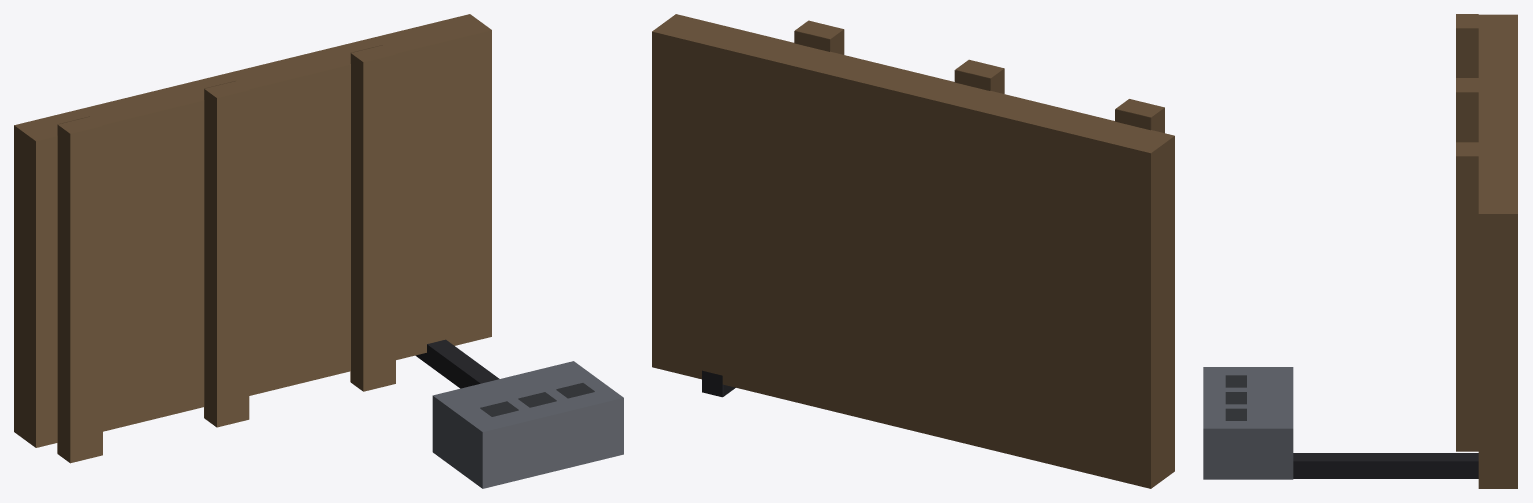
File: bank_ground_makeshift_c0_S.obj
3 renders of one model, left to right at view 1: azimuth 30°, elevation 25°; view 2: azimuth 150°, elevation 25°; view 3: azimuth 270°, elevation 25°, orthographic. The views are drawn at different scales.
Parts seen in each view (by area): view 1: bank_ground_makeshift_c0_S; view 2: bank_ground_makeshift_c0_S; view 3: bank_ground_makeshift_c0_S.
Boxes of the visible parts, x1,y1,x2,y2 form: bank_ground_makeshift_c0_S: [14, 14, 623, 488]; bank_ground_makeshift_c0_S: [652, 14, 1174, 488]; bank_ground_makeshift_c0_S: [1203, 14, 1517, 488].
Bounding box in the file's own units: 0.84 × 0.58 × 0.5615.
Materials: 1 (1 with a texture image).
